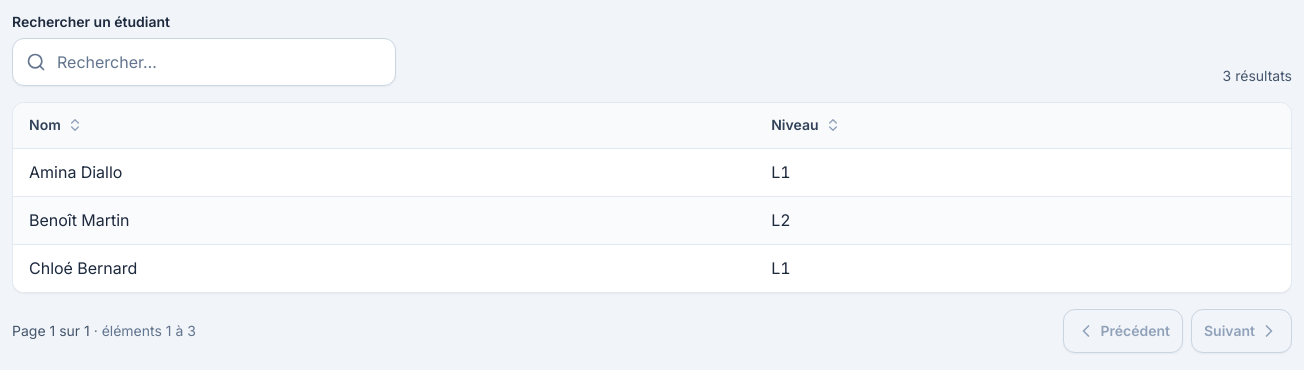
Scenario: DataTable › filtre sans tenir compte des accents ni de la casse
Type "benoit" into the search field labelled "Rechercher un étudiant".
click(204, 62); type("benoit")  # box [12,38,396,86]
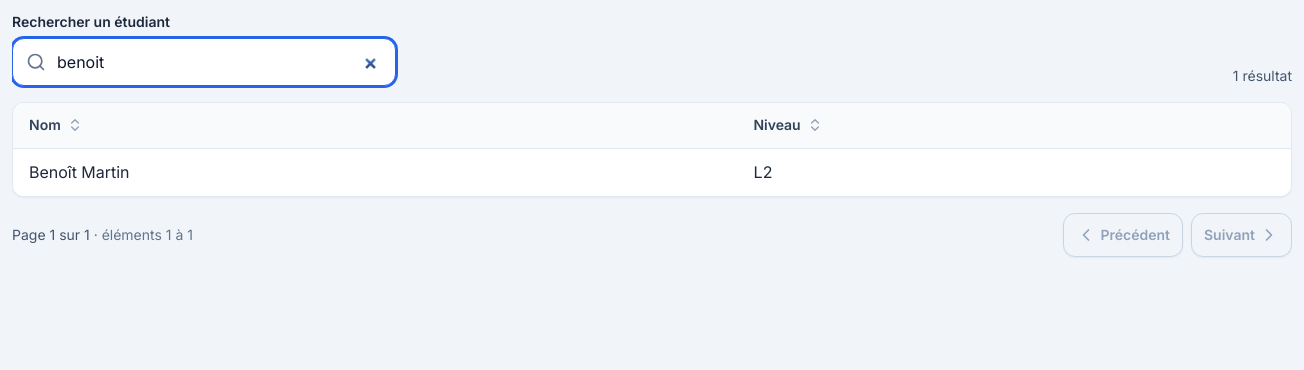
Expected: the text "Benoît Martin" is shown, [13,149,737,196]
Expected: the text "1 résultat" is shown, [1233,66,1292,86]
Expected: the text "Amina Diallo" is gone
